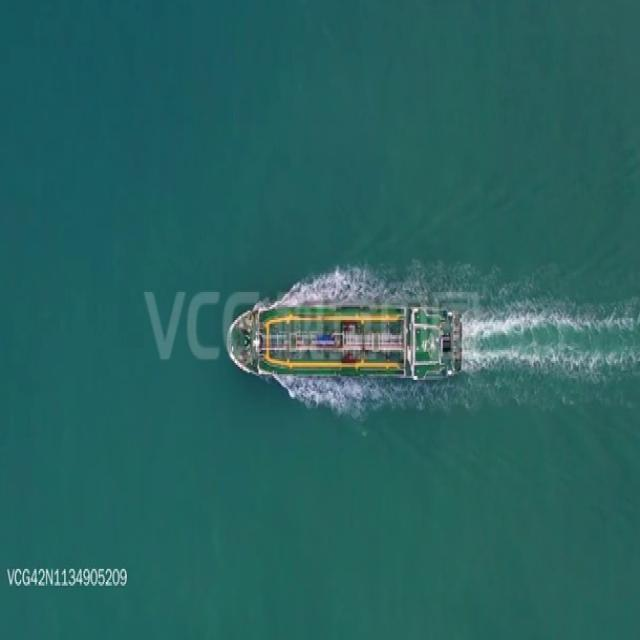houseboat: (227, 302, 467, 386)
